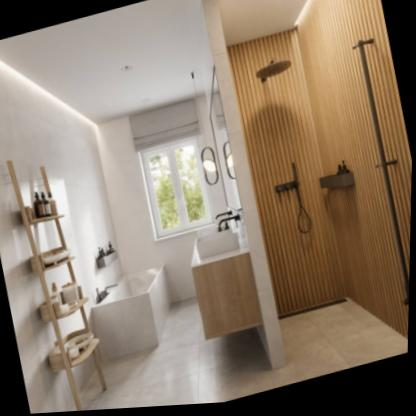Window: (138, 138, 217, 240)
